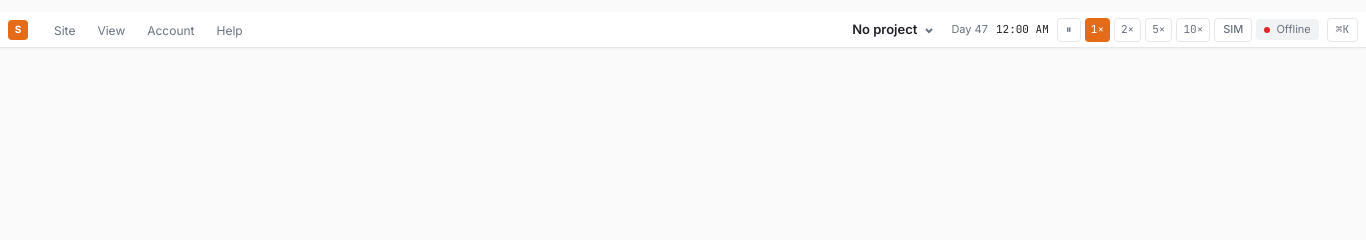
Test case: <MenuBar /> › Site menu reveals pause + speed verbs
Note: The "Site" menu label.
Click the button "Site" at (65, 30), box [44,18,85,42]
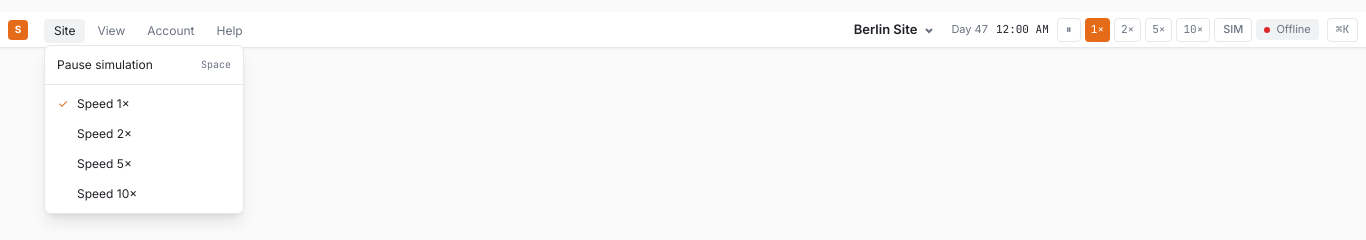
Check: the text "Pause simulation" is shown, box [57,56,153,74]
Check: the text "Speed 5×" is shown, box [77,156,132,170]
